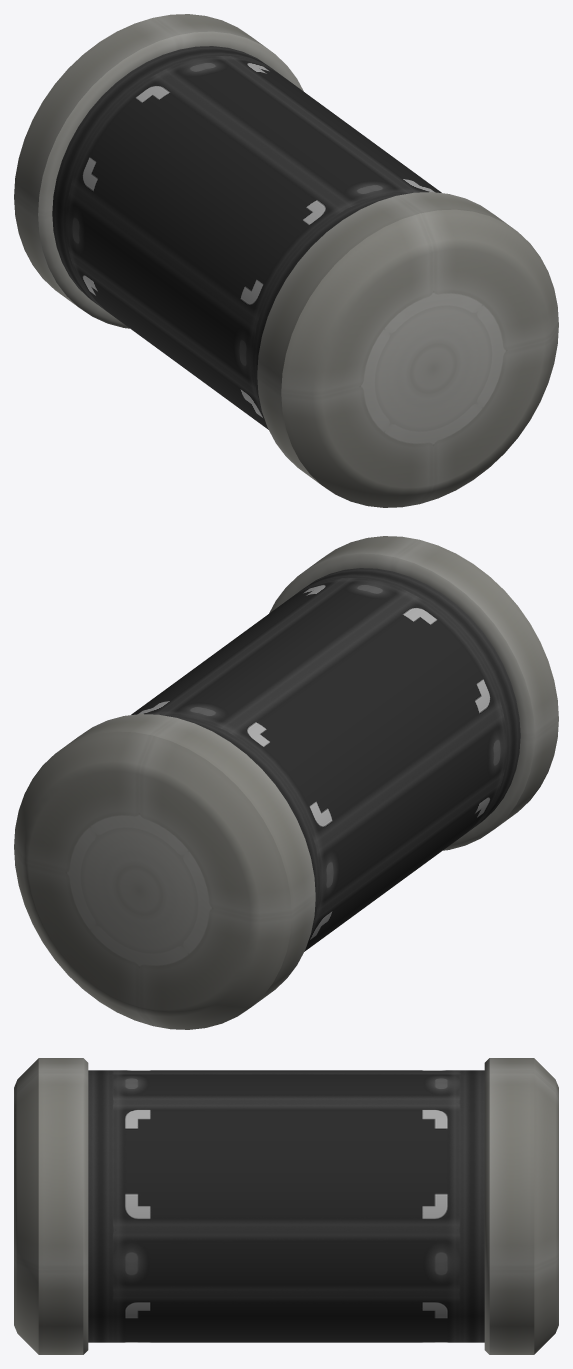
File: l600_primary_fuel_cell.glb
The picture shows the model from 3 angles, top to bottom: view 1: azimuth 30°, elevation 25°; view 2: azimuth 150°, elevation 25°; view 3: azimuth 270°, elevation 25°; orthographic projection. The views are drawn at different scales.
Visible parts, largest first — view 1: Object_2; view 2: Object_2; view 3: Object_2.
Part boxes in pixels (x1,y1,x2,y2): Object_2: (14,14,558,507); Object_2: (14,536,558,1029); Object_2: (14,1058,558,1354).
Bounding box in the file's own units: 0.24 × 0.24 × 0.44.
1 material, 1 textured.
